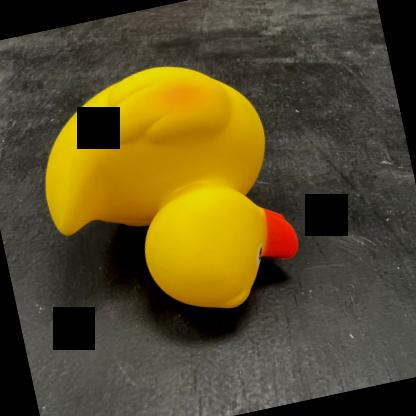duck: (21, 43, 310, 344)
